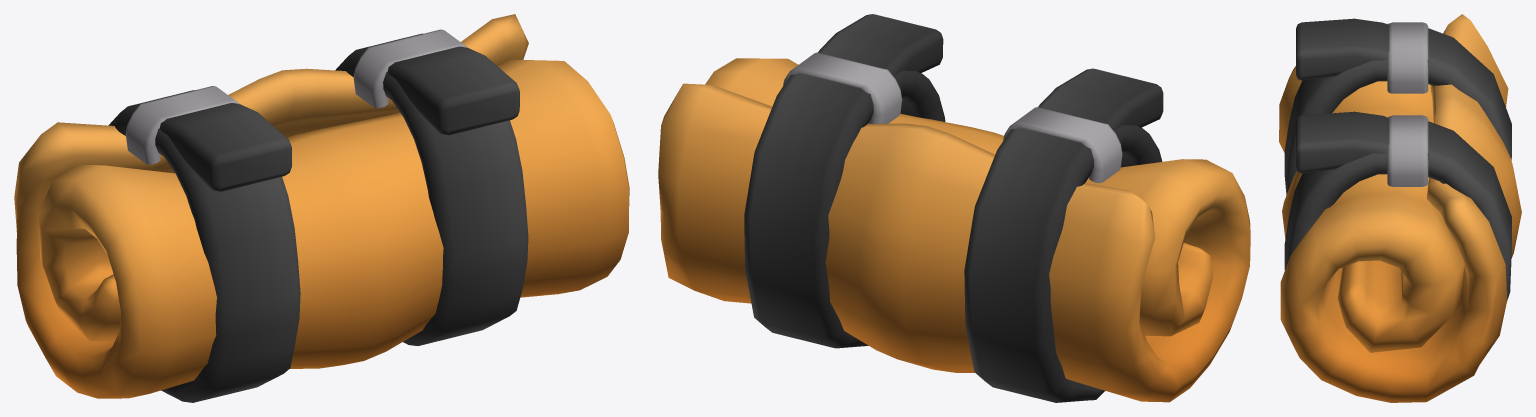
Rendered from Backpack_01.fbx.
3 views of the same model, side by side, from view 1: azimuth 30°, elevation 25°; view 2: azimuth 150°, elevation 25°; view 3: azimuth 270°, elevation 25° (orthographic). The views are drawn at different scales.
Parts seen in each view (by area): view 1: Backpack_01; view 2: Backpack_01; view 3: Backpack_01.
Part boxes in pixels (x1,y1,x2,y2): Backpack_01: [14, 14, 629, 402]; Backpack_01: [658, 14, 1250, 402]; Backpack_01: [1279, 14, 1521, 402].
Size of the model in its own units: 65.76 by 35.2 by 32.12.
